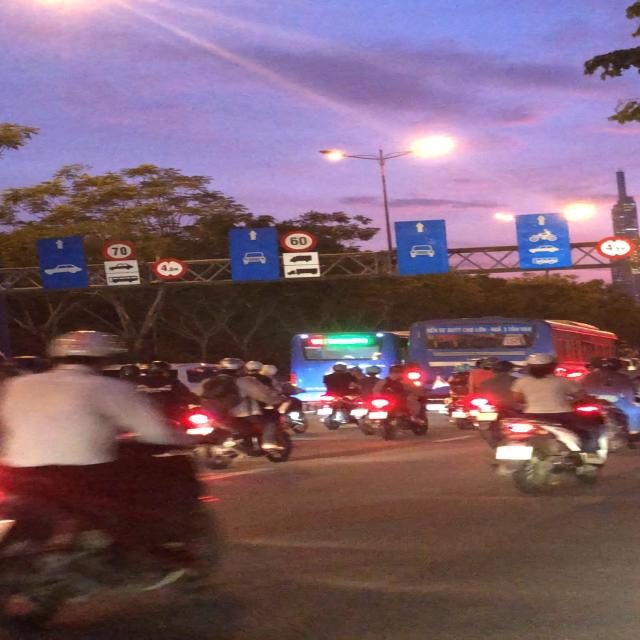Bien bao han che chieu cao: (594, 235, 640, 259), (147, 255, 188, 280)
Bien bao toc do toi da cho phep: (276, 229, 320, 252), (96, 240, 142, 261)
